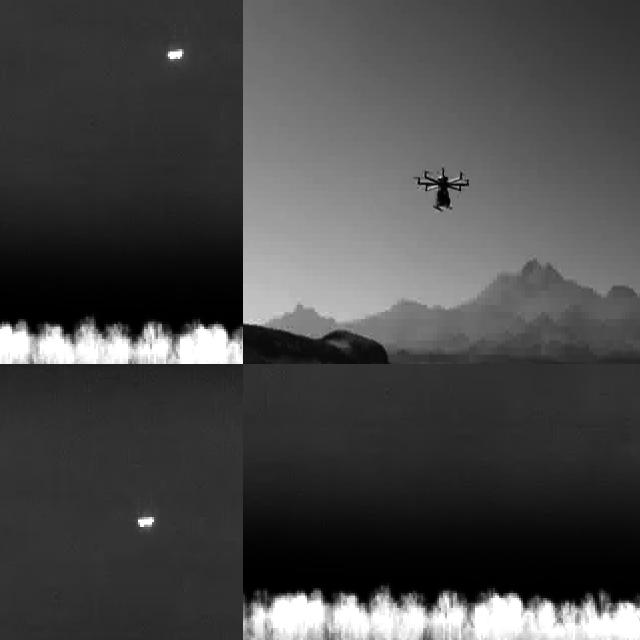1: (156, 44, 192, 74), (126, 511, 162, 541)
drone: (414, 161, 471, 216)
